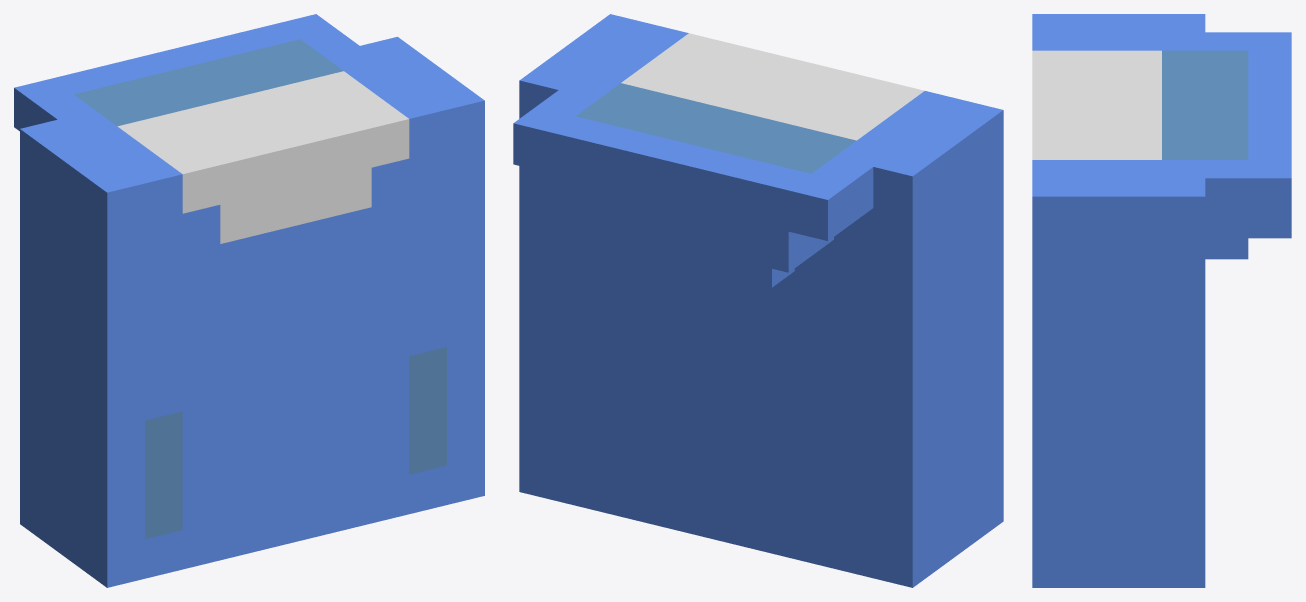
The model's file is JAMIE_BODY.obj.
3 views of the same model, side by side, from view 1: azimuth 30°, elevation 25°; view 2: azimuth 150°, elevation 25°; view 3: azimuth 270°, elevation 25° (orthographic). The views are drawn at different scales.
Size of the model in its own units: 1 by 1 by 0.6.
1 material, 1 textured.
